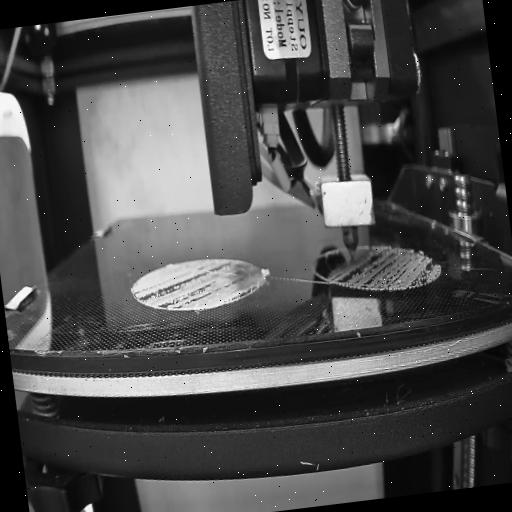under_extrusion: (131, 259, 261, 314), (329, 242, 440, 298)
